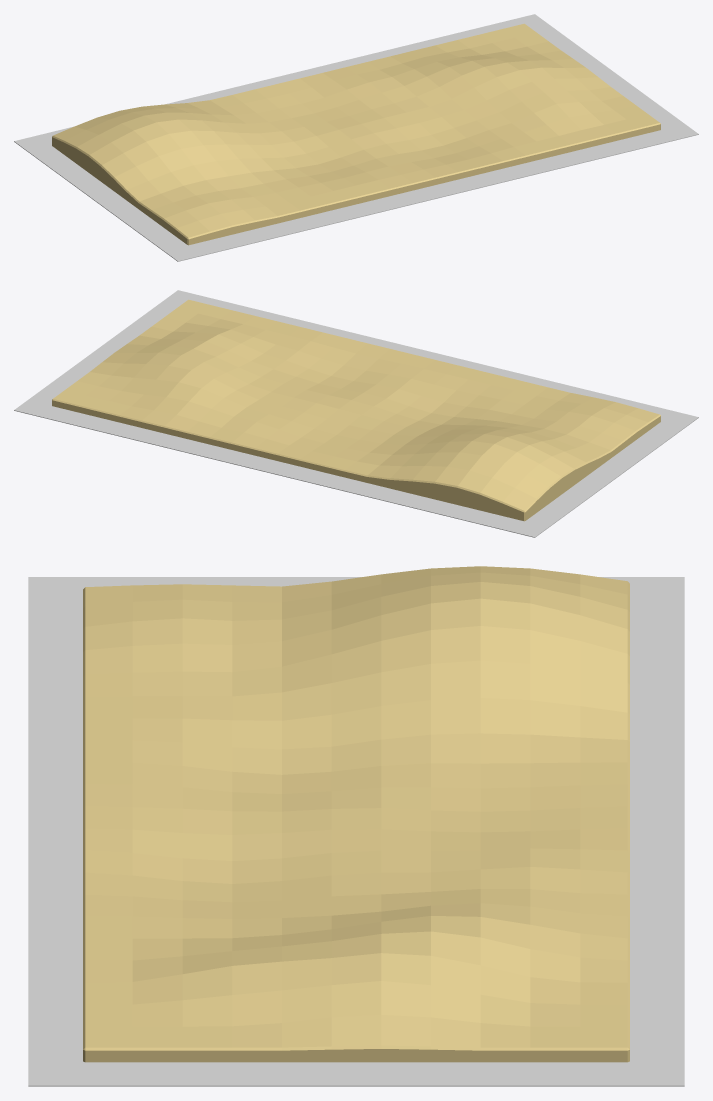
File: Terrain_coordinates.fbx
3 renders of one model, top to bottom at view 1: azimuth 30°, elevation 25°; view 2: azimuth 150°, elevation 25°; view 3: azimuth 270°, elevation 25°, orthographic. The views are drawn at different scales.
Visible parts, largest first — view 1: Terrain, Coordinates; view 2: Terrain, Coordinates; view 3: Terrain, Coordinates.
Boxes of the visible parts, x1,y1,x2,y2 form: Terrain: (52,23,660,245); Coordinates: (14,14,698,261); Terrain: (52,299,660,521); Coordinates: (14,290,698,537); Terrain: (83,566,629,1062); Coordinates: (28,577,684,1086).
Bounding box in the file's own units: 4400 × 278 × 2400.
